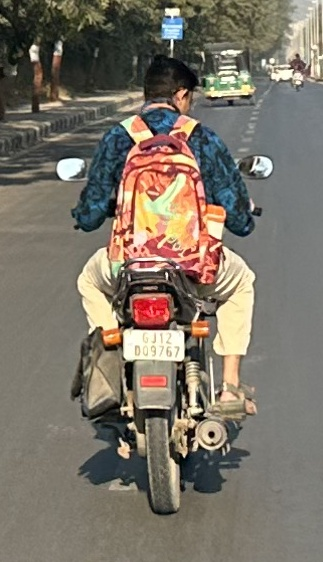BikeWithRider: (53, 52, 277, 517), (286, 51, 310, 93)
NoHelmet: (138, 55, 194, 119)
